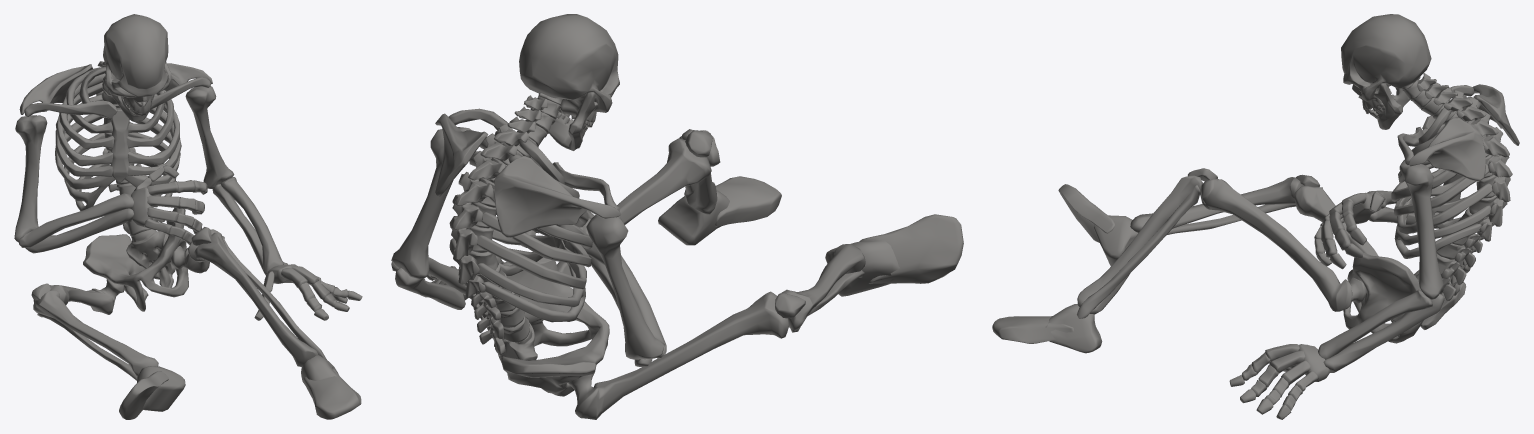
3 views of the same model, side by side, from view 1: azimuth 30°, elevation 25°; view 2: azimuth 150°, elevation 25°; view 3: azimuth 270°, elevation 25° (orthographic). The views are drawn at different scales.
Parts seen in each view (by area): view 1: SM_GoblinSkeleton_02_LOD0; view 2: SM_GoblinSkeleton_02_LOD0; view 3: SM_GoblinSkeleton_02_LOD0.
Boxes of the visible parts, left/top/right/bottom form: SM_GoblinSkeleton_02_LOD0: left=14, top=14, right=362, bottom=419; SM_GoblinSkeleton_02_LOD0: left=391, top=14, right=963, bottom=419; SM_GoblinSkeleton_02_LOD0: left=992, top=14, right=1519, bottom=419.
Size of the model in its own units: 1.03 by 0.8875 by 1.31.
1 material, 1 textured.
